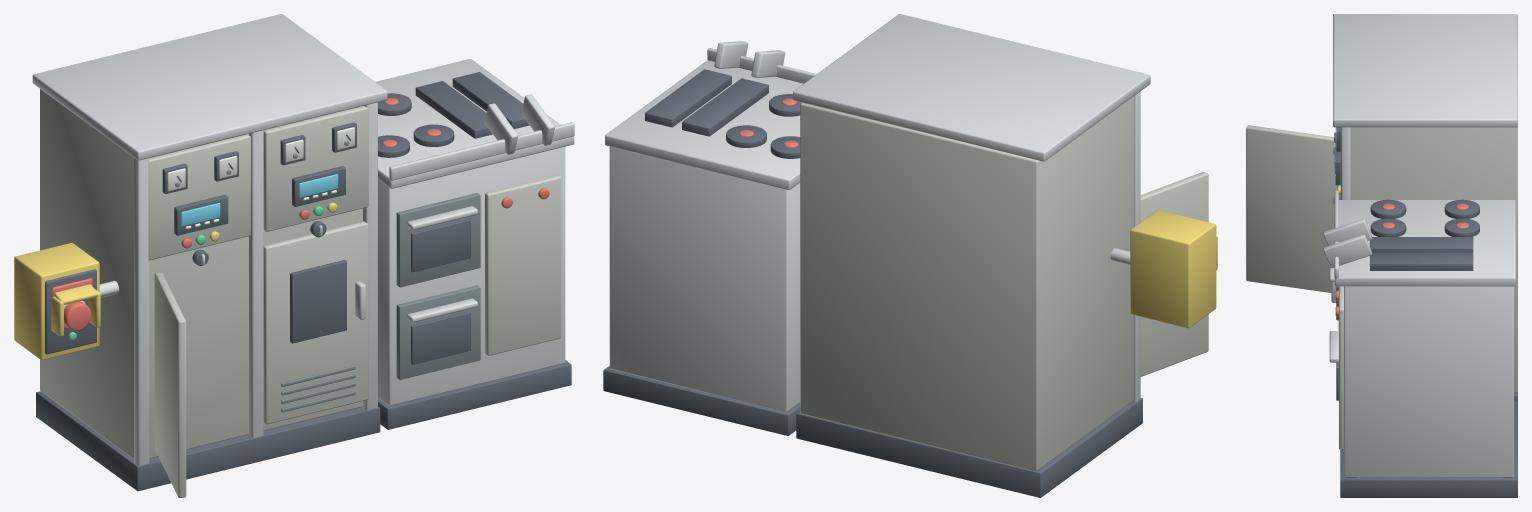
Rendered from galley_board_assembly.glb.
3 renders of one model, left to right at view 1: azimuth 30°, elevation 25°; view 2: azimuth 150°, elevation 25°; view 3: azimuth 270°, elevation 25°, orthographic. The views are drawn at different scales.
Visible parts, largest first — view 1: Galley_Panel_Enclosure__PebbleGrey, Galley_Panel_Enclosure__Steel, Galley_Panel_Enclosure, Galley_Panel_Enclosure__Stainless, Galley_Panel_Enclosure__Iron, Outdoor_Shunt_Trip_Box, Outdoor_Shunt_Trip_Box__DarkPlinth, Galley_Panel_Enclosure__WhiteDial, Safety_Cover_Flap, Galley_Panel_Enclosure__CyanLcd, Galley_Panel_Enclosure__StatusRed, Red_Mushroom_Button__StatusRed; view 2: Galley_Panel_Enclosure__PebbleGrey, Galley_Panel_Enclosure__Steel, Galley_Panel_Enclosure__Stainless, Galley_Panel_Enclosure, Outdoor_Shunt_Trip_Box; view 3: Galley_Panel_Enclosure__Steel, Galley_Panel_Enclosure__Stainless, Galley_Panel_Enclosure__PebbleGrey, Galley_Panel_Enclosure, Galley_Panel_Enclosure__StatusRed.
Boxes of the visible parts, <box> form: Galley_Panel_Enclosure__PebbleGrey: <box>40,89,560,497</box>; Galley_Panel_Enclosure__Steel: <box>32,14,574,465</box>; Galley_Panel_Enclosure: <box>36,72,571,491</box>; Galley_Panel_Enclosure__Stainless: <box>378,146,565,405</box>; Galley_Panel_Enclosure__Iron: <box>175,141,480,412</box>; Outdoor_Shunt_Trip_Box: <box>14,243,99,360</box>; Outdoor_Shunt_Trip_Box__DarkPlinth: <box>45,269,96,354</box>; Galley_Panel_Enclosure__WhiteDial: <box>167,127,354,229</box>; Safety_Cover_Flap: <box>51,284,100,336</box>; Galley_Panel_Enclosure__CyanLcd: <box>181,174,338,226</box>; Galley_Panel_Enclosure__StatusRed: <box>181,98,549,248</box>; Red_Mushroom_Button__StatusRed: <box>64,301,91,330</box>; Galley_Panel_Enclosure__PebbleGrey: <box>800,96,1208,470</box>; Galley_Panel_Enclosure__Steel: <box>605,14,1150,401</box>; Galley_Panel_Enclosure__Stainless: <box>609,146,800,411</box>; Galley_Panel_Enclosure: <box>603,69,1142,497</box>; Outdoor_Shunt_Trip_Box: <box>1130,210,1216,328</box>; Galley_Panel_Enclosure__Steel: <box>1323,14,1517,362</box>; Galley_Panel_Enclosure__Stainless: <box>1344,286,1513,477</box>; Galley_Panel_Enclosure__PebbleGrey: <box>1246,125,1517,449</box>; Galley_Panel_Enclosure: <box>1334,127,1517,497</box>; Galley_Panel_Enclosure__StatusRed: <box>1335,203,1468,316</box>.
Size of the model in its own units: 1.41 by 0.893 by 0.7348.
